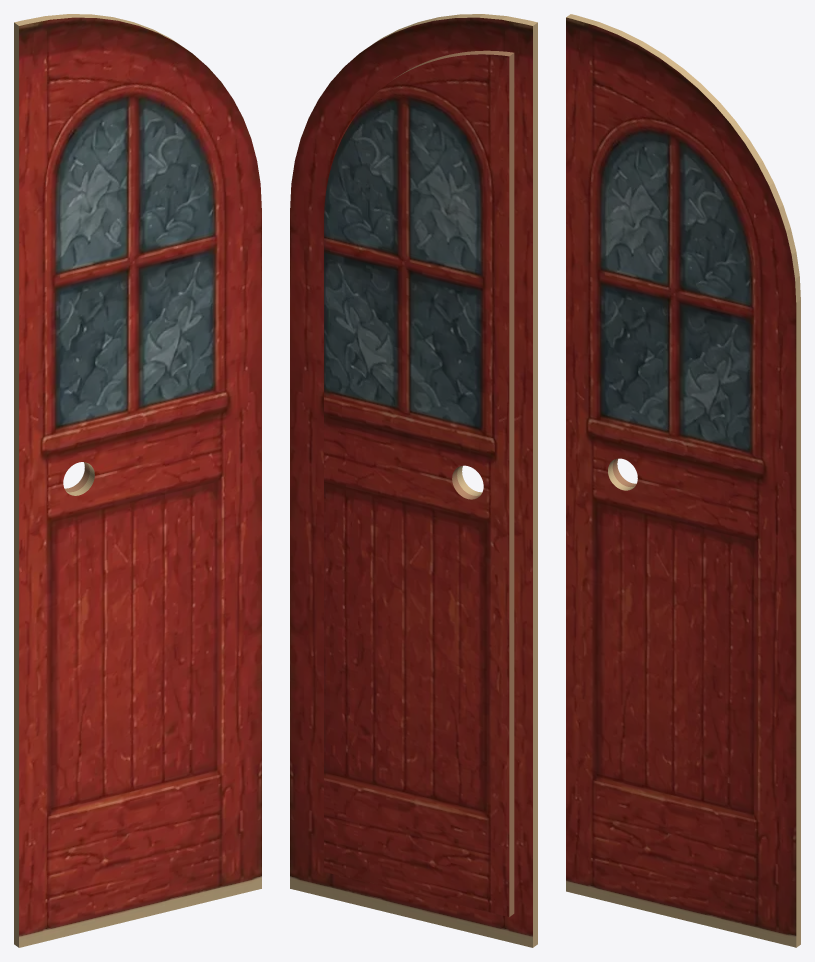
Rendered from door-right-leaf.glb.
The picture shows the model from 3 angles, left to right: view 1: azimuth 30°, elevation 25°; view 2: azimuth 150°, elevation 25°; view 3: azimuth 330°, elevation 25°; orthographic projection. The views are drawn at different scales.
Visible parts, largest first — view 1: door-right-leaf; view 2: door-right-leaf; view 3: door-right-leaf.
Part boxes in pixels (x1,y1,x2,y2): door-right-leaf: [14, 14, 261, 947]; door-right-leaf: [290, 14, 537, 947]; door-right-leaf: [566, 14, 800, 947].
Bounding box in the file's own units: 252 × 914 × 18.
4 materials, 2 textured.
